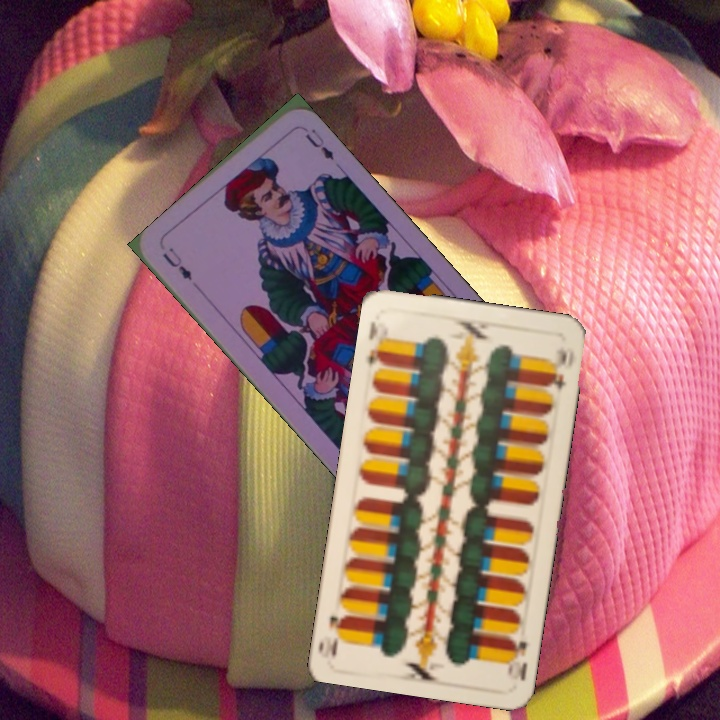E10: (502, 634, 530, 683), (364, 344, 389, 370)
EU: (158, 243, 195, 283)
